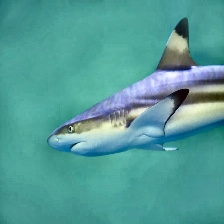shark: (44, 15, 224, 158)
